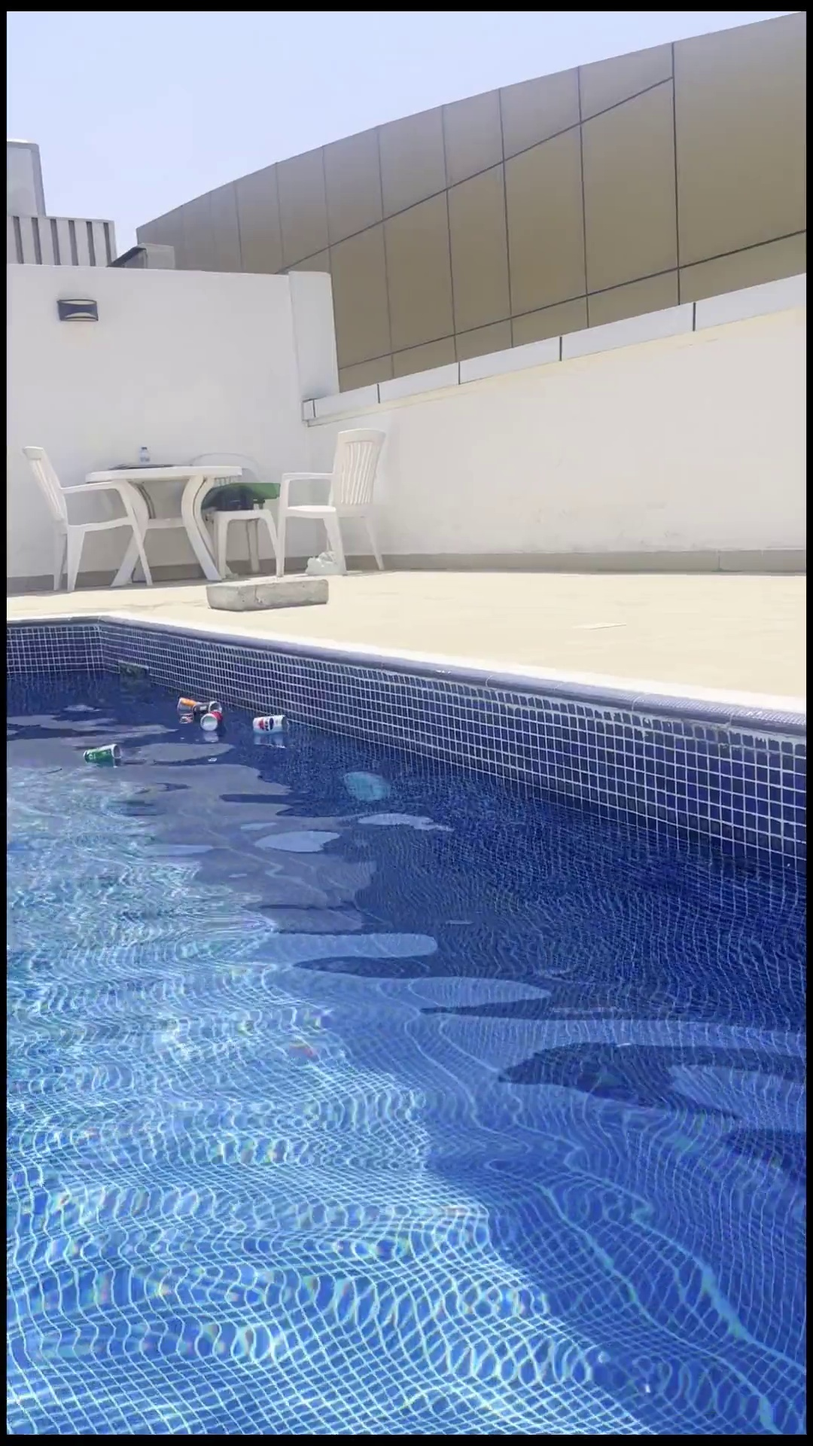debris: (78, 725, 123, 779), (248, 699, 288, 749), (175, 688, 200, 731), (196, 703, 219, 740)
